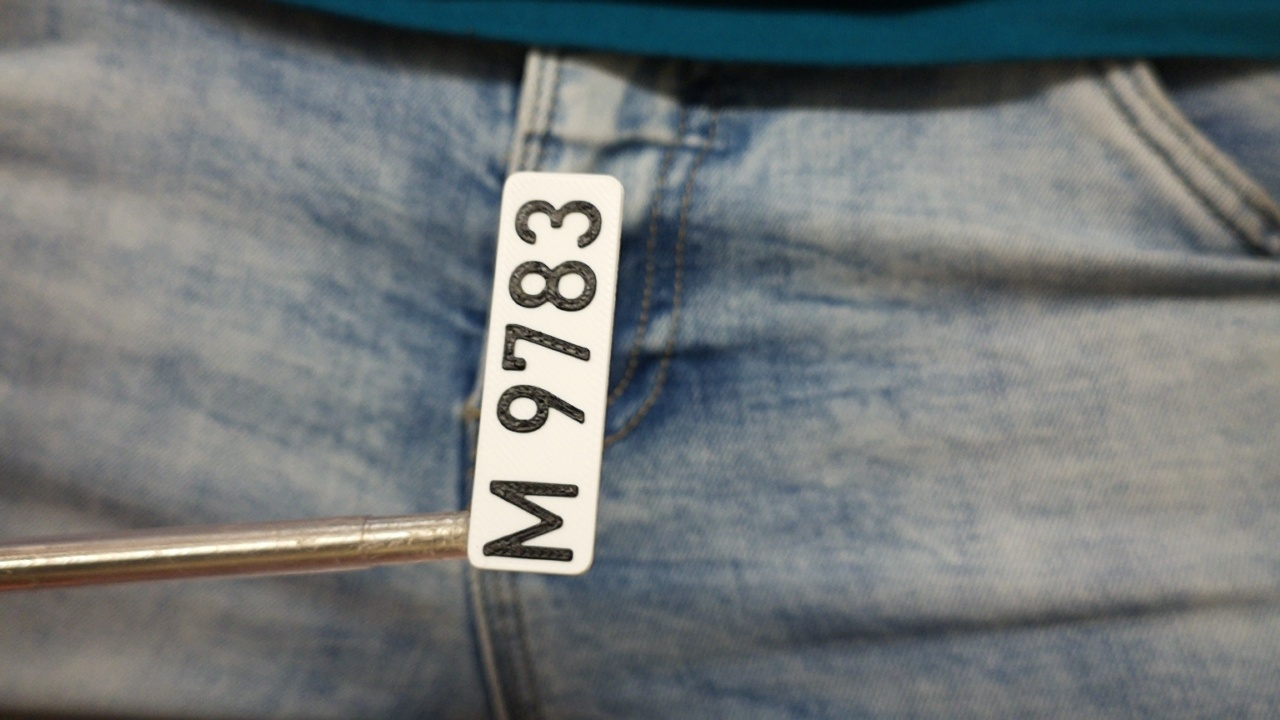license_plate: (465, 167, 629, 578)
